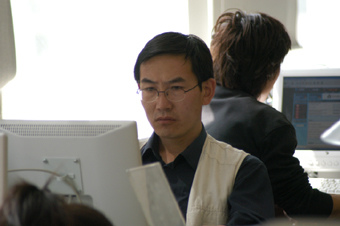person: (202, 11, 340, 219), (134, 33, 276, 226)
